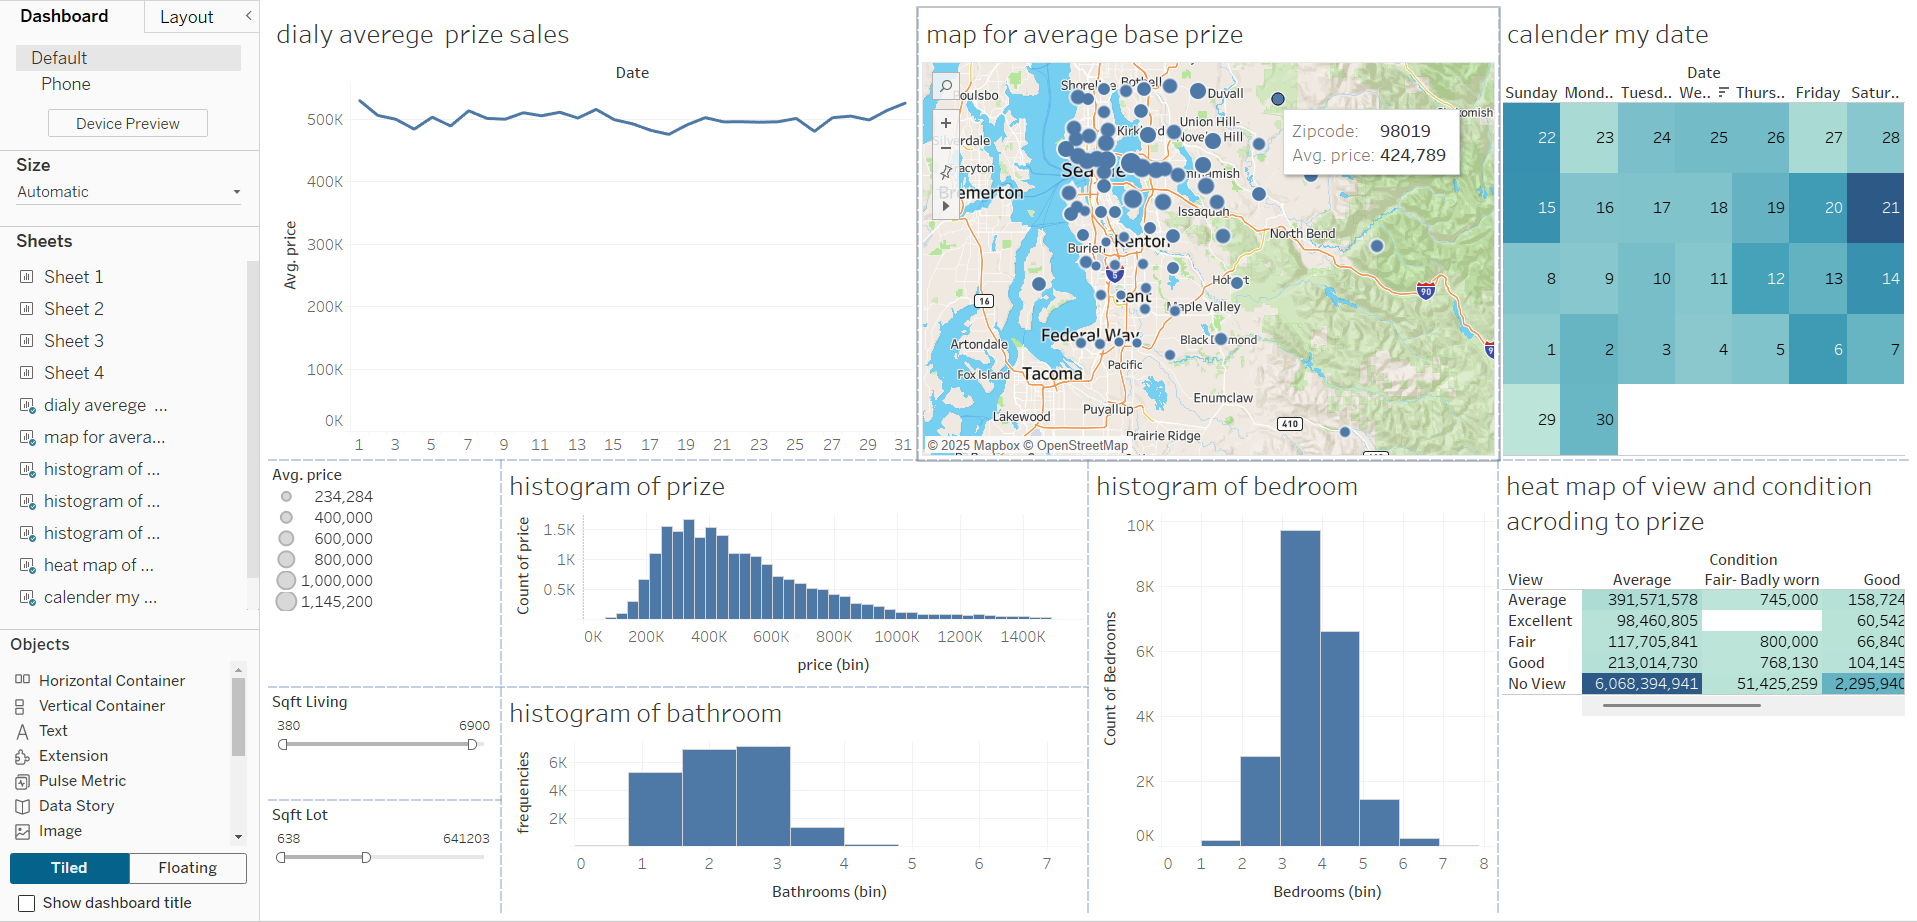

The page's visual inventory and layout, read from the dashboard file:
{"tool":"tableau","page":{"name":"Dashboard 1","canvas":[1000,1000],"units":"permille","ordinal":0},"visuals":[{"type":"worksheet","title":"dialy averege  prize sales","mark":"Automatic","rows":["price"],"cols":["date"],"box":[4.8,8.7,392.3,491.3]},{"type":"worksheet","title":"map for average base prize","mark":"Automatic","box":[397.2,8.7,350.4,491.3]},{"type":"worksheet","title":"calender my date ","mark":"Square","rows":["date"],"cols":["date"],"box":[747.6,8.7,247.6,491.3]},{"type":"legend","title":"map for average base prize","param":"[federated.0ncu0hx1rhld9y12arcrc0o0i230].[avg:price:qk]","box":[4.8,500,140.6,245.6]},{"type":"worksheet","title":"histogram of prize","mark":"Automatic","rows":["price"],"cols":["price (bin)"],"box":[145.4,500,354.6,245.6]},{"type":"worksheet","title":"histogram of bedroom","mark":"Automatic","rows":["bedrooms"],"cols":["Bedrooms (bin)"],"box":[500,500,247.2,491.3]},{"type":"worksheet","title":"heat map of view and condition acroding to prize","mark":"Square","rows":["view"],"cols":["condition"],"box":[747.2,500,248,491.3]},{"type":"filter","title":"calender my date ","param":"[federated.0ncu0hx1rhld9y12arcrc0o0i230].[none:sqft_living:qk]","box":[4.8,745.6,140.6,122.8]},{"type":"worksheet","title":"histogram of bathroom","mark":"Automatic","rows":["bathrooms"],"cols":["Bathrooms (bin)"],"box":[145.4,745.6,354.6,245.7]},{"type":"filter","title":"calender my date ","param":"[federated.0ncu0hx1rhld9y12arcrc0o0i230].[none:sqft_lot:qk]","box":[4.8,868.5,140.6,122.9]}]}

Visuals, with their boxes on the dashboard's canvas, which has no fixed pixel size, in thousandths of its width and height (x1, y1, x2, y2). These are canvas units, not pixel positions in the 1917x922 screenshot, which may show the page scaled, cropped or inside an application window:
"dialy averege  prize sales" worksheet: rect(5, 9, 397, 500)
"map for average base prize" worksheet: rect(397, 9, 748, 500)
"calender my date " worksheet (Square marks): rect(748, 9, 995, 500)
"map for average base prize" legend: rect(5, 500, 145, 746)
"histogram of prize" worksheet: rect(145, 500, 500, 746)
"histogram of bedroom" worksheet: rect(500, 500, 747, 991)
"heat map of view and condition acroding to prize" worksheet (Square marks): rect(747, 500, 995, 991)
"calender my date " filter: rect(5, 746, 145, 868)
"histogram of bathroom" worksheet: rect(145, 746, 500, 991)
"calender my date " filter: rect(5, 868, 145, 991)
